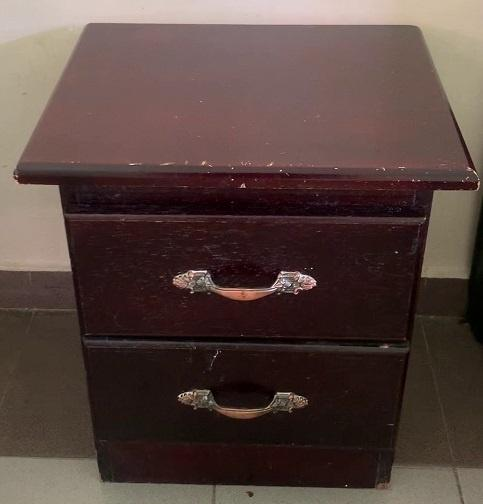cabinet_door: (73, 217, 415, 335), (95, 342, 400, 438)
handle: (174, 385, 307, 428), (169, 266, 318, 304)
